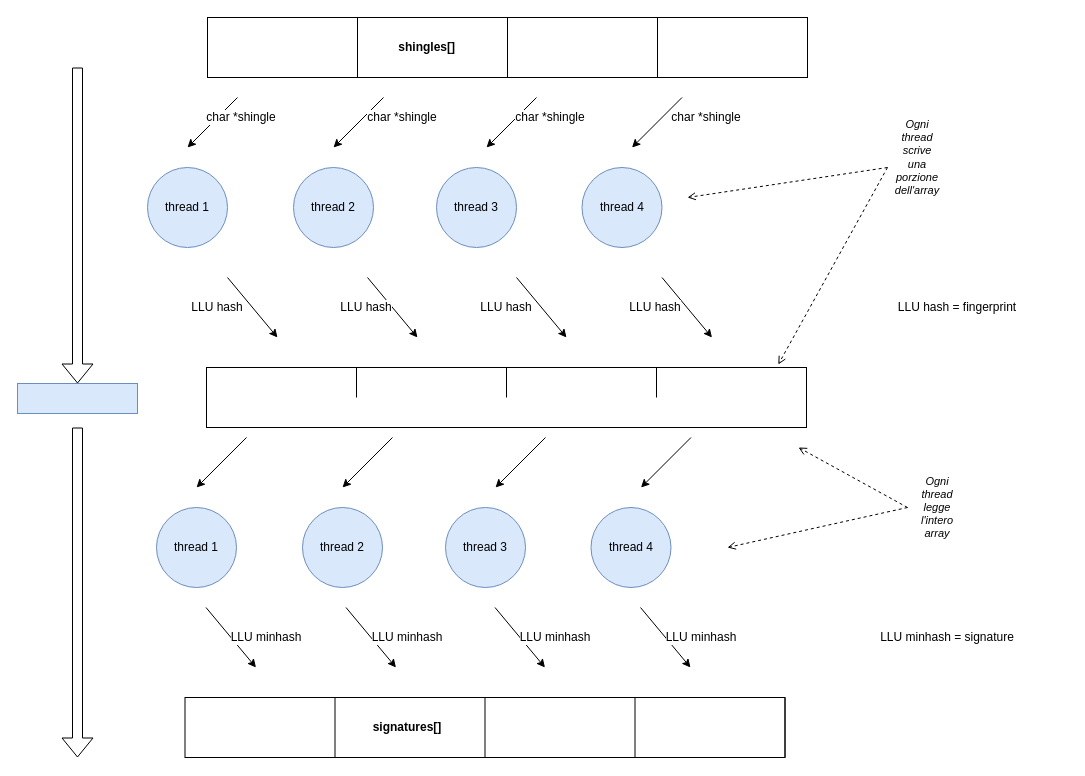
Some shapes in this 1085 by 776 pixel diagram are drawn without their labels. The centre of each missing label's shape, as x and y in pixels:
barrier: point 77,398
hashed_shingles[]: point 506,397
